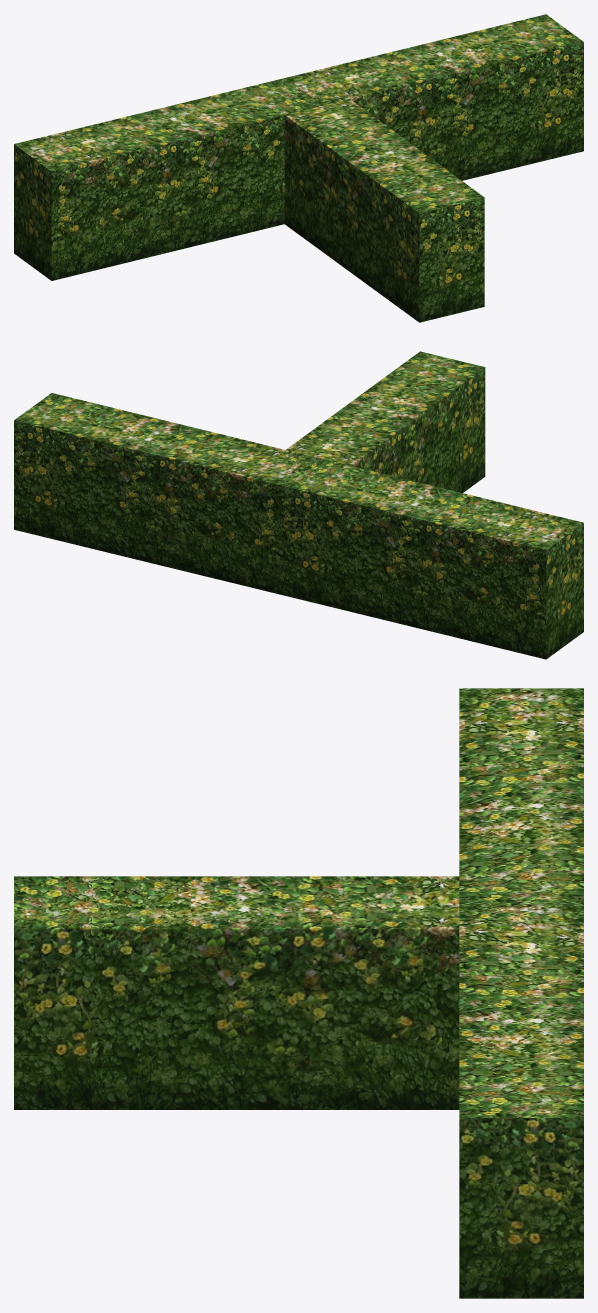
Rendered from Hedge_01_04.fbx.
The picture shows the model from 3 angles, top to bottom: view 1: azimuth 30°, elevation 25°; view 2: azimuth 150°, elevation 25°; view 3: azimuth 270°, elevation 25°; orthographic projection. The views are drawn at different scales.
Visible parts, largest first — view 1: skp11B9_1; view 2: skp11B9_1; view 3: skp11B9_1.
Boxes of the visible parts, x1,y1,x2,y2 form: skp11B9_1: [14, 14, 583, 322]; skp11B9_1: [14, 351, 583, 659]; skp11B9_1: [14, 688, 583, 1298].
Bounding box in the file's own units: 500 × 98.22 × 280.
